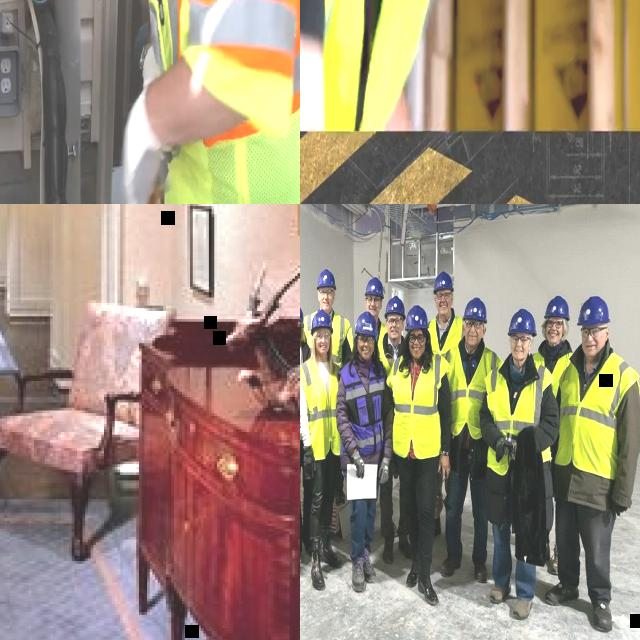Hardhat: (576, 296, 610, 326), (508, 308, 538, 337), (544, 295, 570, 321), (405, 304, 430, 330), (462, 298, 488, 322), (311, 309, 334, 335), (354, 312, 378, 336), (384, 296, 406, 320), (434, 270, 454, 294), (316, 269, 338, 290), (364, 277, 384, 298)
NO-Mask: (581, 338, 603, 357), (512, 344, 528, 360), (409, 342, 425, 358), (464, 330, 482, 344), (436, 302, 452, 316), (546, 330, 562, 344), (358, 346, 372, 360), (388, 326, 402, 340), (319, 298, 335, 310), (316, 342, 330, 354), (366, 304, 379, 316)
Person: (78, 0, 300, 204), (300, 0, 640, 133), (542, 294, 640, 632), (479, 306, 562, 622), (386, 303, 451, 605), (440, 295, 506, 581), (335, 313, 395, 593), (300, 268, 354, 532), (300, 309, 343, 591), (534, 294, 573, 576), (426, 272, 465, 540), (374, 294, 412, 562), (362, 278, 388, 536), (300, 302, 311, 570)
Safety Vest: (144, 0, 300, 204), (300, 0, 476, 136), (554, 349, 640, 479), (484, 354, 555, 474), (386, 350, 450, 460), (440, 340, 504, 440), (338, 360, 386, 455), (300, 358, 340, 462), (304, 310, 352, 364), (530, 350, 574, 398), (428, 316, 466, 356), (345, 320, 386, 354), (378, 332, 406, 372)
